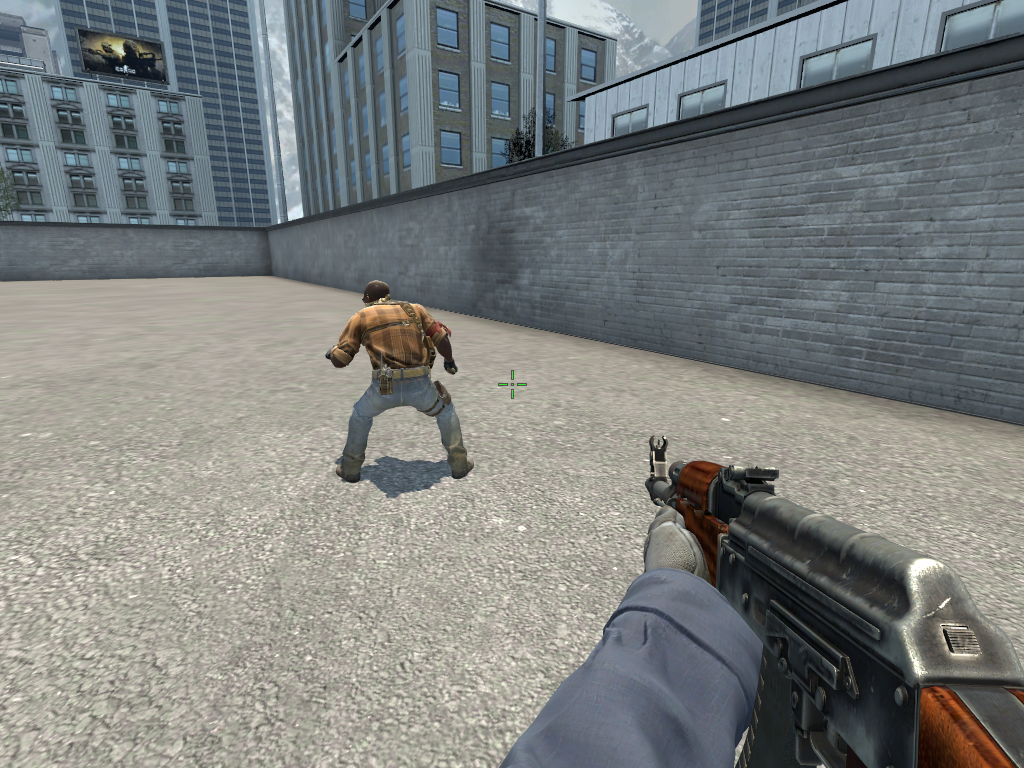tr head: (359, 274, 394, 312)
